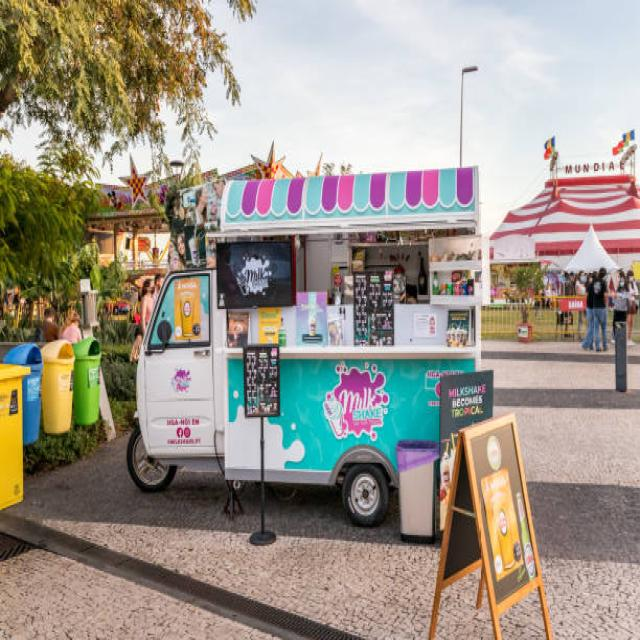Emperan: (116, 150, 509, 539)
